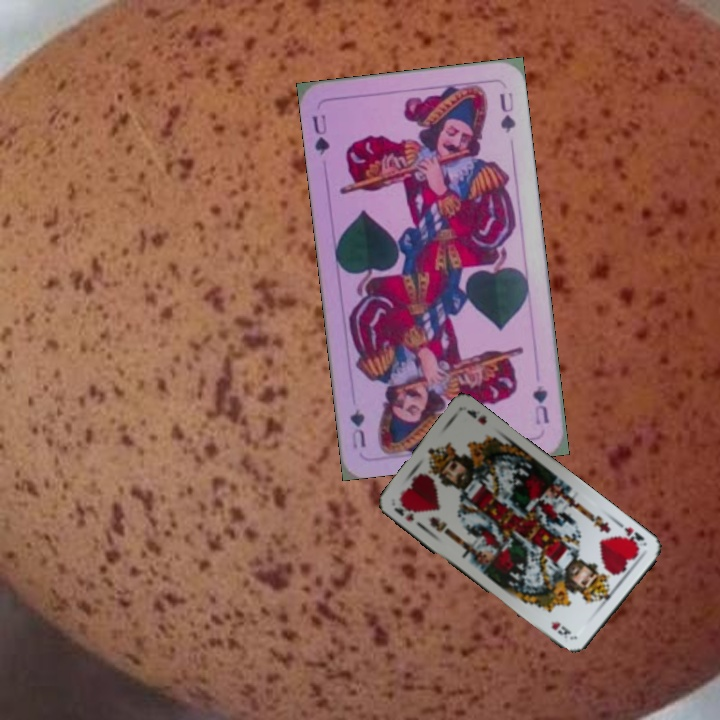GU: (308, 110, 333, 158), (529, 381, 552, 428)
HK: (614, 517, 649, 551), (390, 500, 417, 524)
